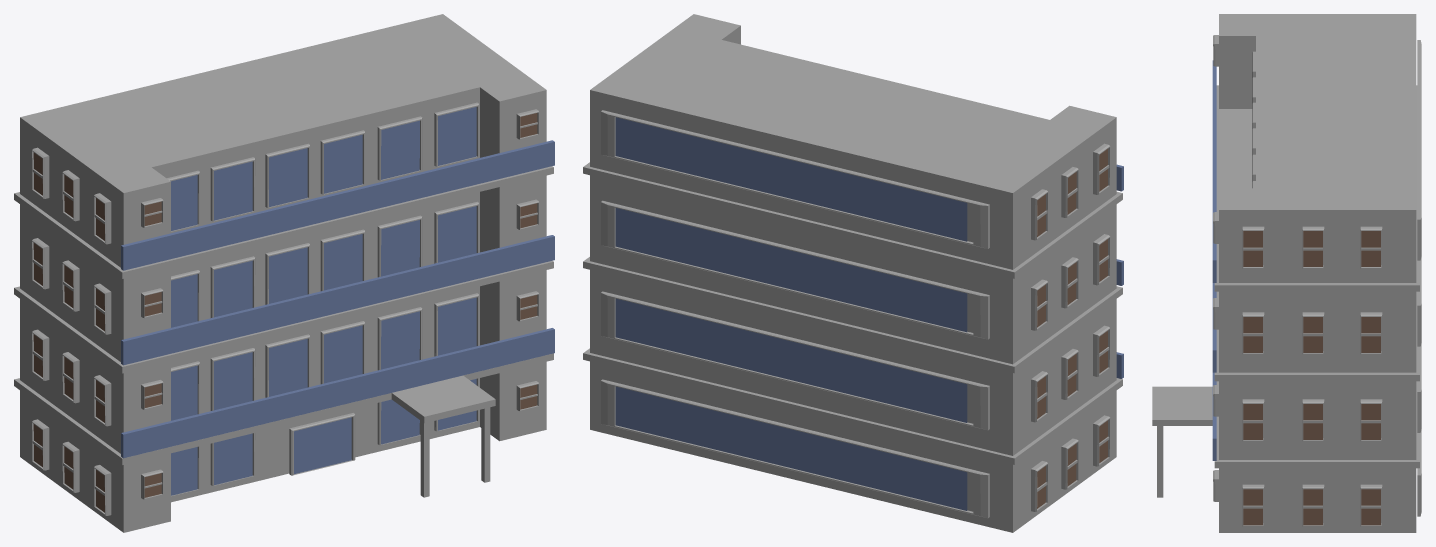
File: Hospital.fbx
3 renders of one model, left to right at view 1: azimuth 30°, elevation 25°; view 2: azimuth 150°, elevation 25°; view 3: azimuth 270°, elevation 25°, orthographic. The views are drawn at different scales.
Visible parts, largest first — view 1: pCube103, pCube107, pCube108, pCube109, pCube106, pCube105, pCube344, polySurface503, pCube104, polySurface470, polySurface473, polySurface469 (+32 smaller); view 2: pCube103, polySurface502, polySurface500, polySurface499, polySurface501, pCube105, pCube106, pCube344, polySurface494, polySurface497, polySurface487, polySurface491 (+8 smaller); view 3: pCube103, pCube106, pCube104, pCube105, pCube344, polySurface499, pCube107, polySurface486, polySurface476, polySurface483, polySurface481, polySurface485 (+11 smaller).
Part boxes in pixels (x1,y1,x2,y2): pCube103: (20,14,546,532); pCube107: (121,140,554,270); pCube108: (121,235,554,365); pCube109: (121,328,554,458); pCube106: (14,166,553,278); pCube105: (14,260,553,373); pCube344: (14,353,553,464); polySurface503: (289,413,355,475); pCube104: (391,375,495,423); polySurface470: (377,116,422,180); polySurface473: (210,157,255,221); polySurface469: (434,102,478,166); pCube103: (590,14,1116,532); polySurface502: (601,379,989,518); polySurface500: (601,200,989,339); polySurface499: (601,110,989,248); polySurface501: (601,291,989,430); pCube105: (583,257,1122,373); pCube106: (583,162,1122,278); pCube344: (583,348,1122,464); polySurface494: (1061,257,1078,308); polySurface497: (1061,167,1078,217); polySurface487: (1061,438,1078,489); polySurface491: (1061,349,1078,399); pCube103: (1219,14,1416,532); pCube106: (1214,85,1419,291); pCube104: (1152,386,1218,425); pCube105: (1214,291,1419,381); pCube344: (1214,381,1419,468); polySurface499: (1417,40,1421,260); pCube107: (1212,60,1216,282); polySurface486: (1360,484,1382,526); polySurface476: (1302,226,1324,268); polySurface483: (1360,399,1382,441); polySurface481: (1302,399,1324,441); polySurface485: (1242,484,1264,526).
Size of the model in its own units: 112 by 85.01 by 63.12.
